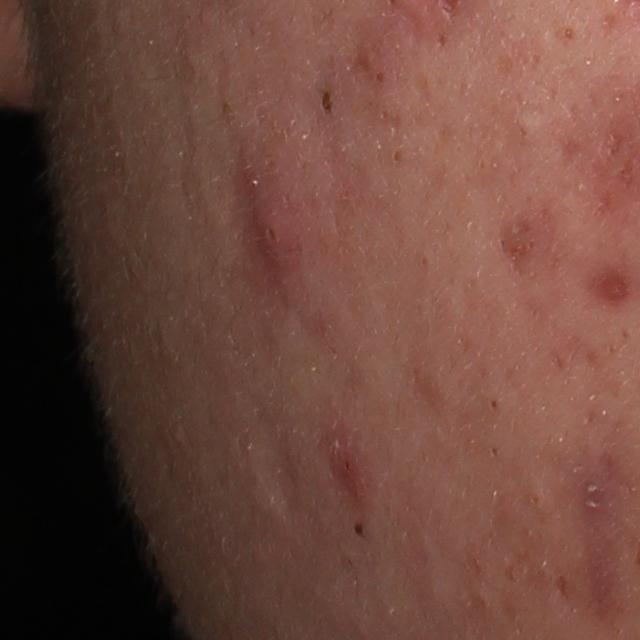atrophic_scar: (245, 414, 306, 522), (494, 202, 560, 278)
comedo: (312, 81, 340, 125), (343, 514, 368, 541), (516, 112, 542, 137), (558, 19, 582, 43), (529, 487, 549, 511), (484, 440, 508, 459), (386, 144, 406, 166), (487, 391, 502, 413)
papule: (245, 177, 302, 279), (329, 445, 374, 494)
